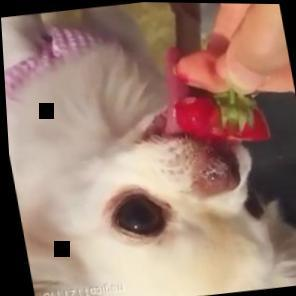nasal_discharge: (193, 147, 232, 190)
